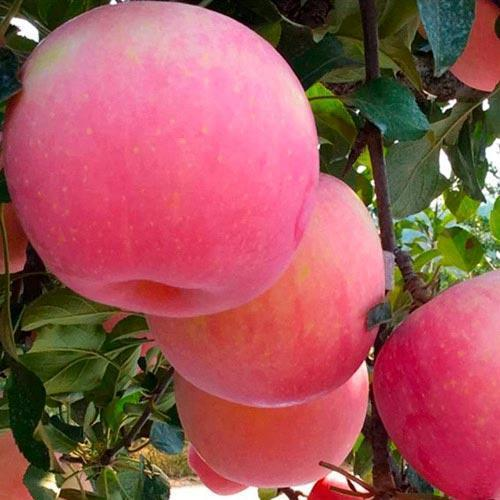apple: (1, 1, 321, 318), (147, 176, 379, 406), (370, 278, 497, 494)
